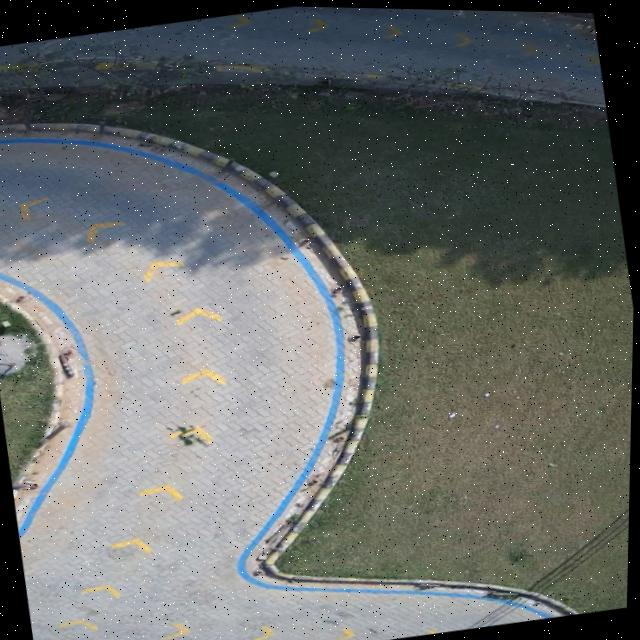No Car: (0, 5, 635, 640)
